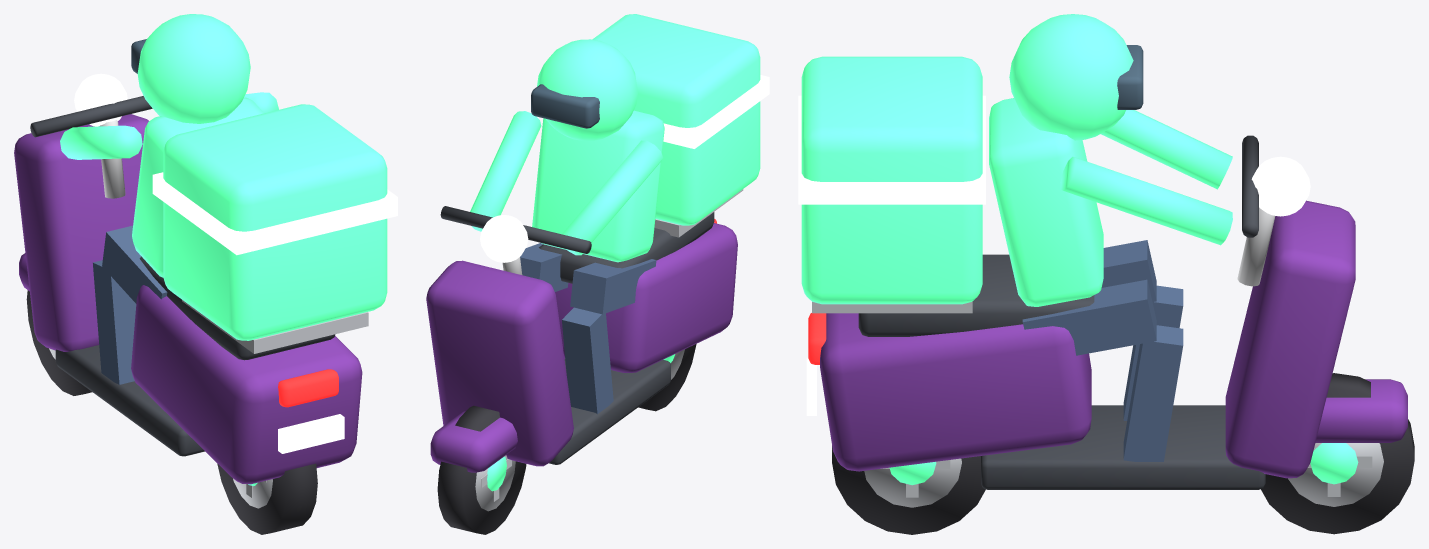
Rendered from delivery_zepto.glb.
3 views of the same model, side by side, from view 1: azimuth 30°, elevation 25°; view 2: azimuth 150°, elevation 25°; view 3: azimuth 270°, elevation 25° (orthographic). The views are drawn at different scales.
Visible parts, largest first — view 1: Scooter_Body.001, Wheel_Rear.001, Wheel_Front.002; view 2: Scooter_Body.001, Wheel_Front.002, Wheel_Rear.001; view 3: Scooter_Body.001, Wheel_Front.002, Wheel_Rear.001.
Part boxes in pixels (x1=…): Scooter_Body.001: x1=14, y1=14, x2=397, y2=484; Wheel_Rear.001: x1=217, y1=463, x2=317, y2=534; Wheel_Front.002: x1=26, y1=290, x2=92, y2=395; Scooter_Body.001: x1=426, y1=14, x2=769, y2=472; Wheel_Front.002: x1=437, y1=405, x2=526, y2=534; Wheel_Rear.001: x1=638, y1=344, x2=696, y2=411; Scooter_Body.001: x1=798, y1=14, x2=1407, y2=489; Wheel_Front.002: x1=1261, y1=373, x2=1414, y2=534; Wheel_Rear.001: x1=832, y1=446, x2=985, y2=534.
Size of the model in its own units: 0.6364 by 1.67 by 1.84.
